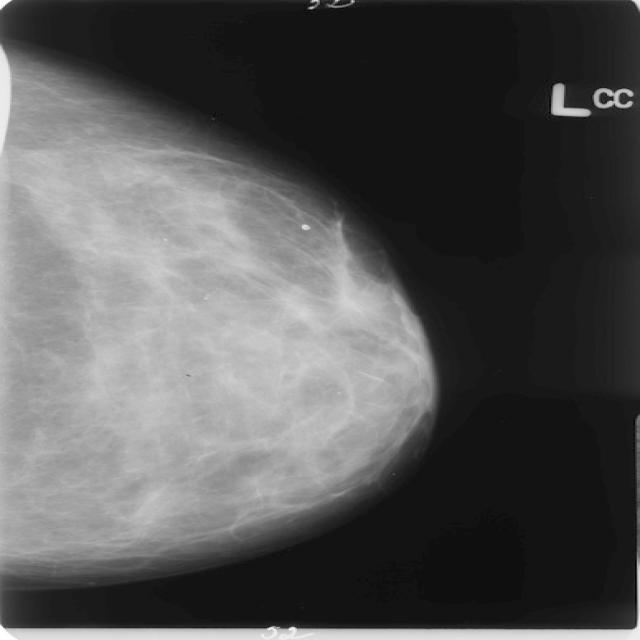tumour: (324, 270, 384, 330)
